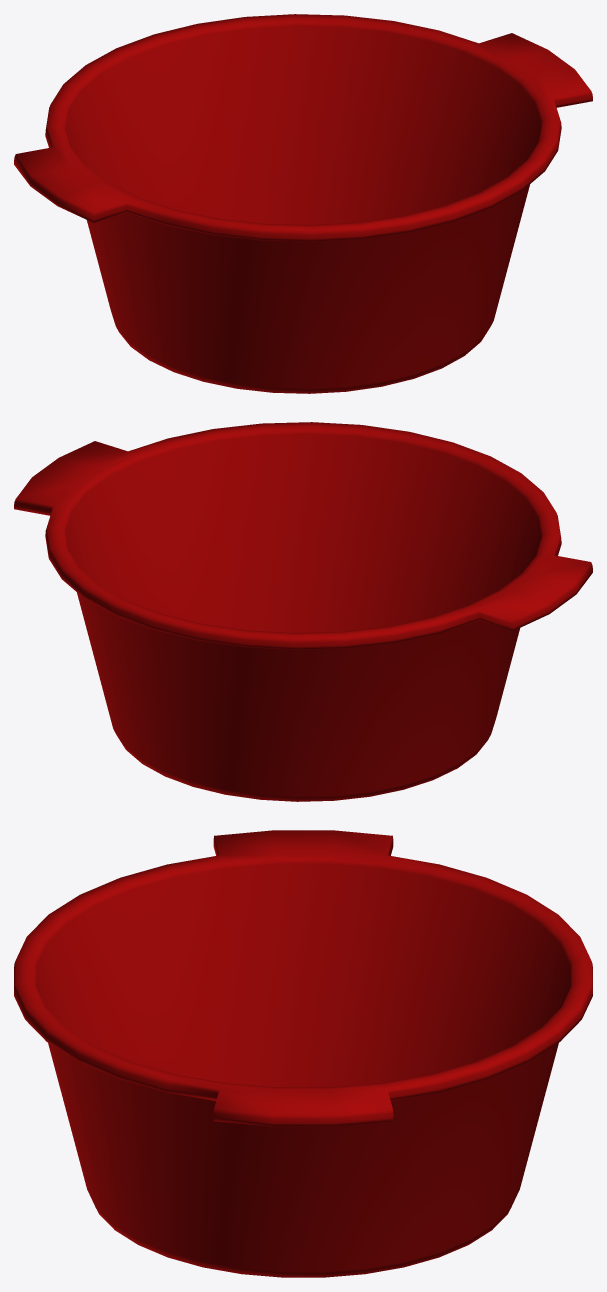
Rendered from basin.obj.
3 renders of one model, top to bottom at view 1: azimuth 30°, elevation 25°; view 2: azimuth 150°, elevation 25°; view 3: azimuth 270°, elevation 25°, orthographic. The views are drawn at different scales.
Visible parts, largest first — view 1: basin_Circle; view 2: basin_Circle; view 3: basin_Circle.
Boxes of the visible parts, x1=… form: basin_Circle: x1=14, y1=14, x2=592, y2=393; basin_Circle: x1=14, y1=422, x2=592, y2=801; basin_Circle: x1=14, y1=830, x2=592, y2=1277.
Size of the model in its own units: 76.81 by 27.03 by 65.83.
